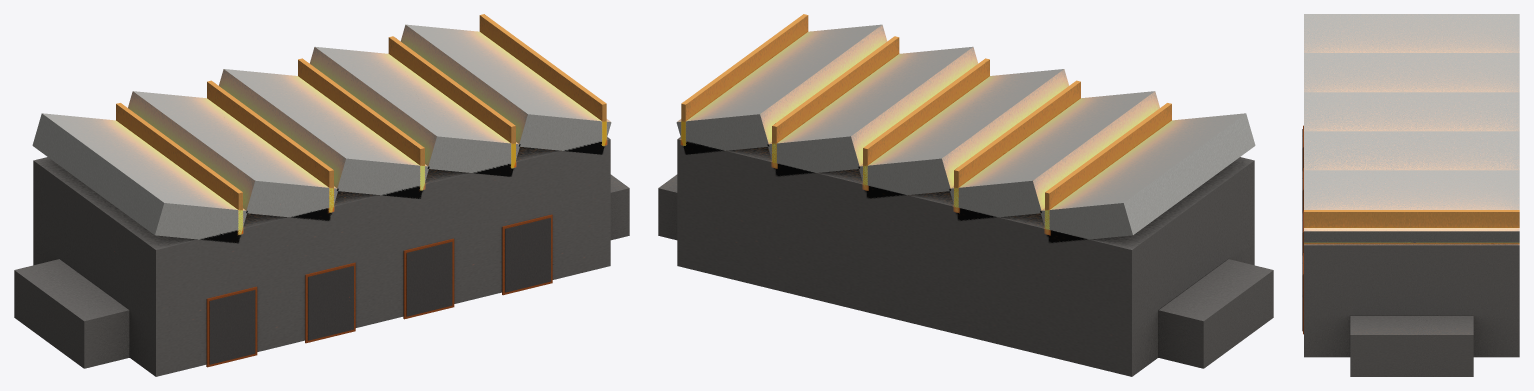
File: processing_hall_script.glb
The picture shows the model from 3 angles, left to right: view 1: azimuth 30°, elevation 25°; view 2: azimuth 150°, elevation 25°; view 3: azimuth 270°, elevation 25°; orthographic projection. The views are drawn at different scales.
Parts seen in each view (by area): view 1: Cube; view 2: Cube; view 3: Cube.
Part boxes in pixels (<box>): Cube: <box>14,14,629,376</box>; Cube: <box>658,14,1273,376</box>; Cube: <box>1302,14,1519,376</box>.
Size of the model in its own units: 36 by 11 by 14.11.
Materials: 1 (1 with a texture image).
